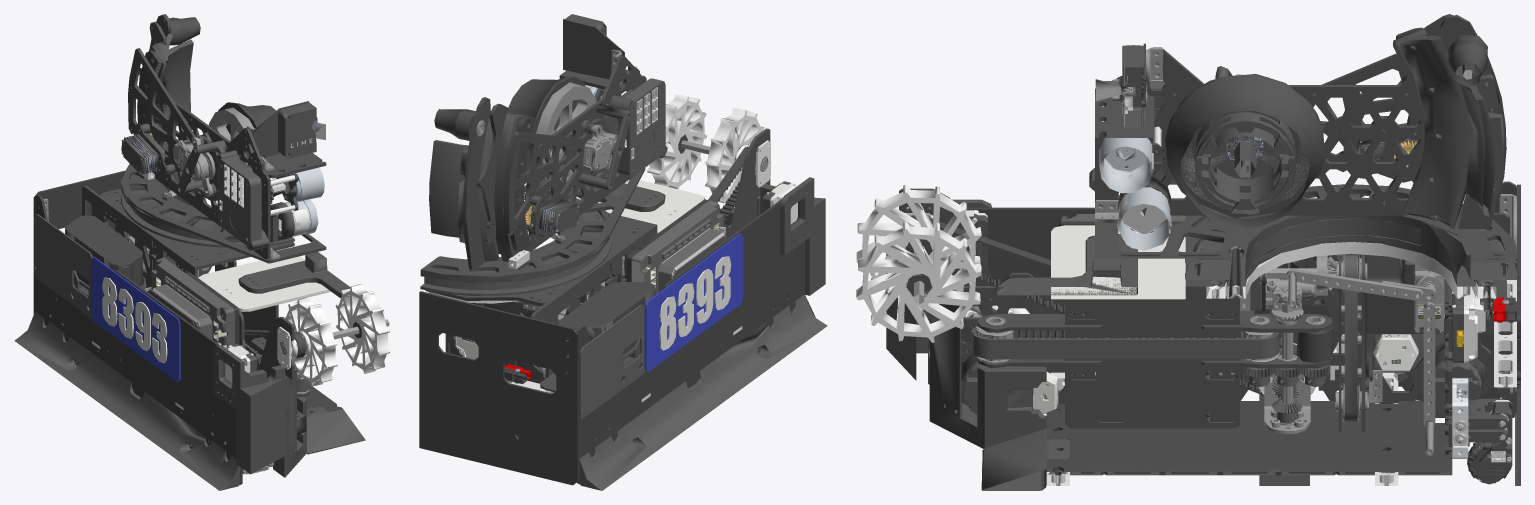
The model's file is ftc-decode-section.glb.
The picture shows the model from 3 angles, left to right: view 1: azimuth 30°, elevation 25°; view 2: azimuth 150°, elevation 25°; view 3: azimuth 270°, elevation 25°; orthographic projection. The views are drawn at different scales.
Visible parts, largest first — view 1: Inside Panel:1; view 2: Inside Panel:1; view 3: Inside Panel:1.
Boxes of the visible parts, bbox=[...] form: Inside Panel:1: bbox=[14, 14, 390, 490]; Inside Panel:1: bbox=[419, 14, 827, 490]; Inside Panel:1: bbox=[856, 14, 1520, 490].
Size of the model in its own units: 0.1885 by 0.3466 by 0.4584.
Materials: 1 (1 with a texture image).
